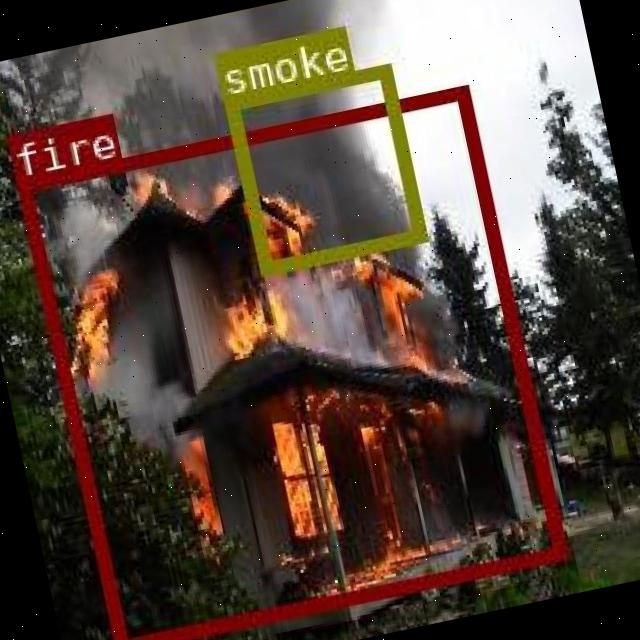fire: (13, 83, 563, 640)
smoke: (224, 60, 424, 274)
